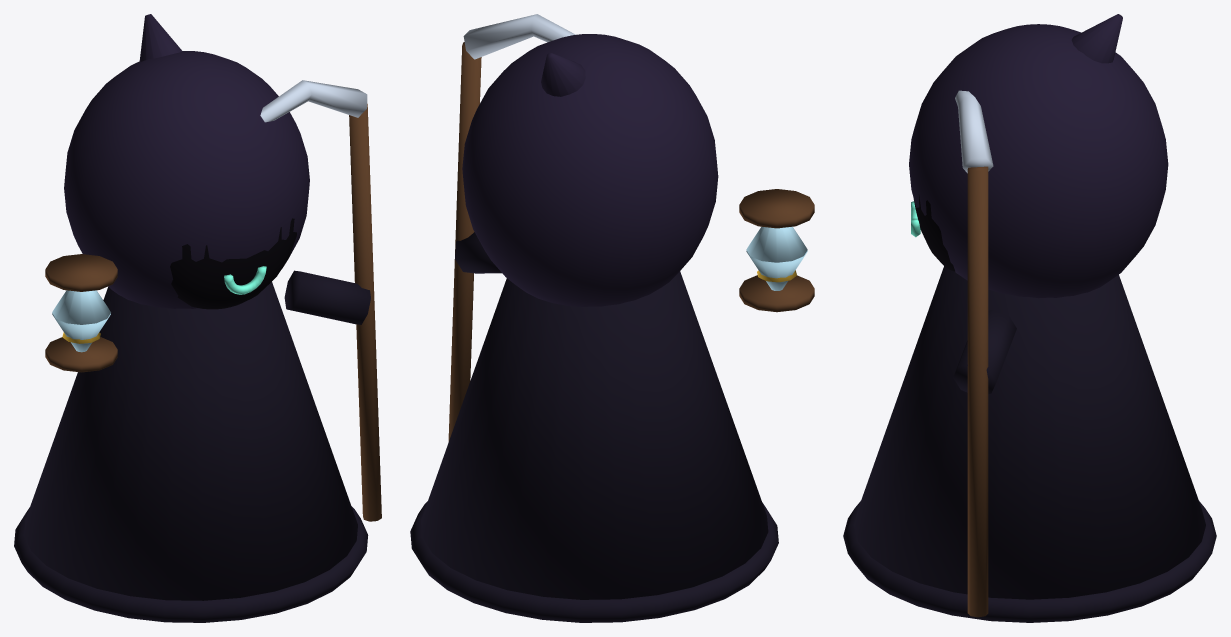
The model's file is H16_GrimGoober.fbx.
3 renders of one model, left to right at view 1: azimuth 30°, elevation 25°; view 2: azimuth 150°, elevation 25°; view 3: azimuth 270°, elevation 25°, orthographic. The views are drawn at different scales.
Parts seen in each view (by area): view 1: H16_GrimGoober__Robe, H16_GrimGoober__Hood, H16_GrimGoober__Wood, H16_GrimGoober__Void, H16_GrimGoober__Blade, H16_GrimGoober__Glass, H16_GrimGoober__Glow; view 2: H16_GrimGoober__Robe, H16_GrimGoober__Hood, H16_GrimGoober__Wood, H16_GrimGoober__Glass, H16_GrimGoober__Blade; view 3: H16_GrimGoober__Robe, H16_GrimGoober__Hood, H16_GrimGoober__Wood, H16_GrimGoober__Blade, H16_GrimGoober__Void.
Boxes of the visible parts, x1,y1,x2,y2 form: H16_GrimGoober__Robe: (14, 270, 370, 622); H16_GrimGoober__Hood: (64, 14, 309, 308); H16_GrimGoober__Wood: (45, 104, 381, 521); H16_GrimGoober__Void: (170, 218, 296, 309); H16_GrimGoober__Blade: (260, 80, 367, 122); H16_GrimGoober__Glass: (52, 290, 110, 352); H16_GrimGoober__Glow: (224, 266, 266, 294); H16_GrimGoober__Robe: (410, 232, 778, 622); H16_GrimGoober__Hood: (462, 34, 718, 306); H16_GrimGoober__Wood: (448, 42, 814, 441); H16_GrimGoober__Glass: (746, 226, 807, 290); H16_GrimGoober__Blade: (463, 14, 575, 59); H16_GrimGoober__Robe: (843, 266, 1216, 622); H16_GrimGoober__Hood: (909, 14, 1168, 298); H16_GrimGoober__Wood: (967, 166, 988, 617); H16_GrimGoober__Blade: (955, 90, 993, 173); H16_GrimGoober__Void: (913, 194, 955, 271).
Bounding box in the file's own units: 2.38 × 3.4 × 2.16.
